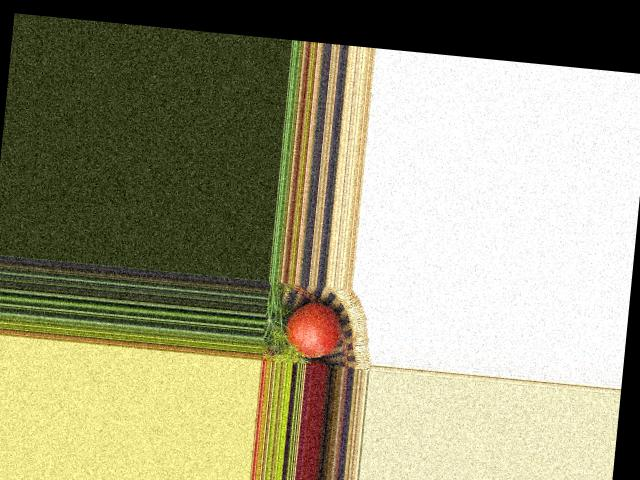tomato: (282, 300, 343, 359)
